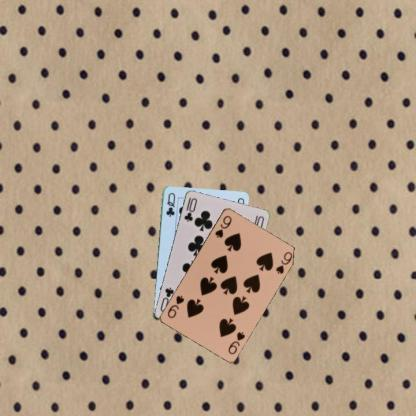10c: (182, 196, 198, 223)
9s: (212, 213, 233, 239), (225, 329, 246, 355)
Qc: (164, 190, 176, 217)
